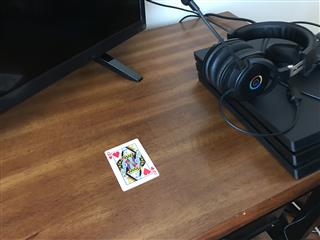QueenOfHearts: (103, 137, 160, 191)
